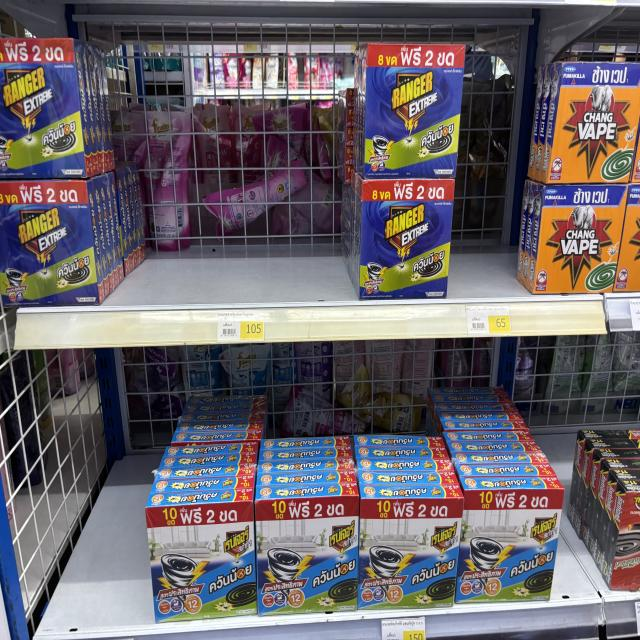empty_shelf: (92, 36, 363, 306), (150, 346, 560, 503), (11, 371, 155, 635), (450, 42, 549, 302), (551, 345, 609, 600)
